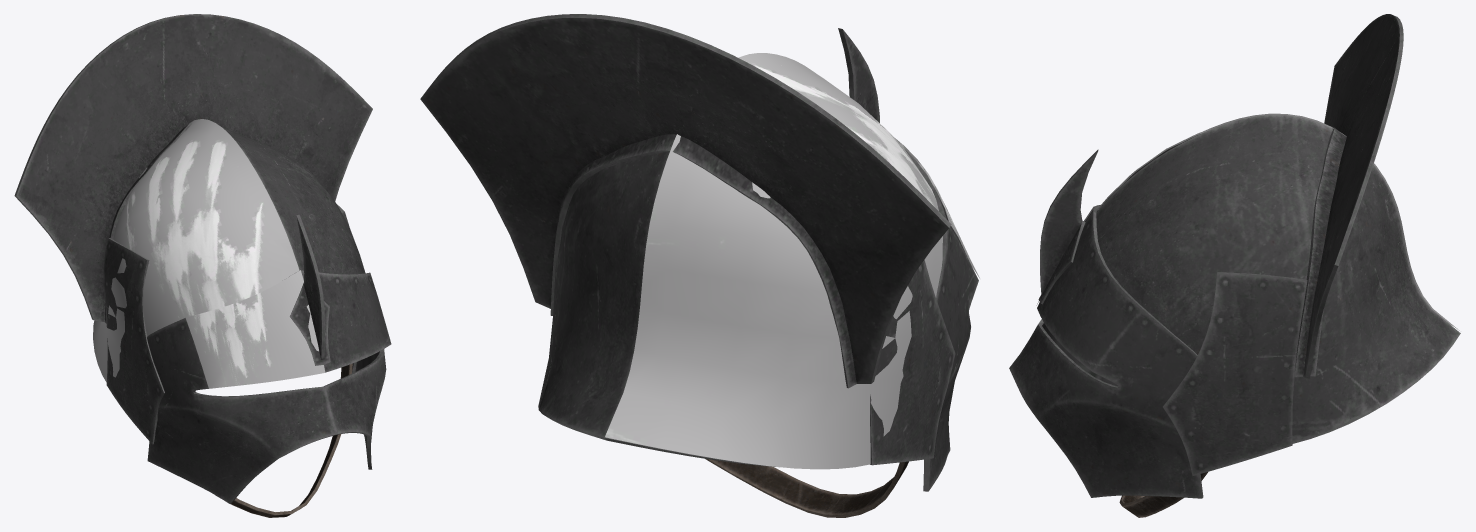
File: sk_uruk_hai_helmet_spear_heavy_a1.fbx
3 views of the same model, side by side, from view 1: azimuth 30°, elevation 25°; view 2: azimuth 150°, elevation 25°; view 3: azimuth 270°, elevation 25° (orthographic). The views are drawn at different scales.
Parts seen in each view (by area): view 1: sk_uruk_hai_helmet_spear_heavy_a1.2, sk_uruk_hai_helmet_spear_heavy_a1.0, sk_uruk_hai_helmet_spear_heavy_a1.1; view 2: sk_uruk_hai_helmet_spear_heavy_a1.2, sk_uruk_hai_helmet_spear_heavy_a1.0, sk_uruk_hai_helmet_spear_heavy_a1.1; view 3: sk_uruk_hai_helmet_spear_heavy_a1.2, sk_uruk_hai_helmet_spear_heavy_a1.0, sk_uruk_hai_helmet_spear_heavy_a1.1.
Boxes of the visible parts, x1,y1,x2,y2 form: sk_uruk_hai_helmet_spear_heavy_a1.2: [14, 14, 391, 503]; sk_uruk_hai_helmet_spear_heavy_a1.0: [93, 119, 325, 388]; sk_uruk_hai_helmet_spear_heavy_a1.1: [215, 363, 352, 517]; sk_uruk_hai_helmet_spear_heavy_a1.2: [420, 14, 978, 491]; sk_uruk_hai_helmet_spear_heavy_a1.0: [605, 53, 979, 469]; sk_uruk_hai_helmet_spear_heavy_a1.1: [705, 458, 908, 517]; sk_uruk_hai_helmet_spear_heavy_a1.2: [1009, 14, 1460, 498]; sk_uruk_hai_helmet_spear_heavy_a1.0: [1036, 113, 1459, 330]; sk_uruk_hai_helmet_spear_heavy_a1.1: [1119, 472, 1207, 517].
Bounding box in the file's own units: 0.3371 × 0.324 × 0.3757.
3 materials, 3 textured.
